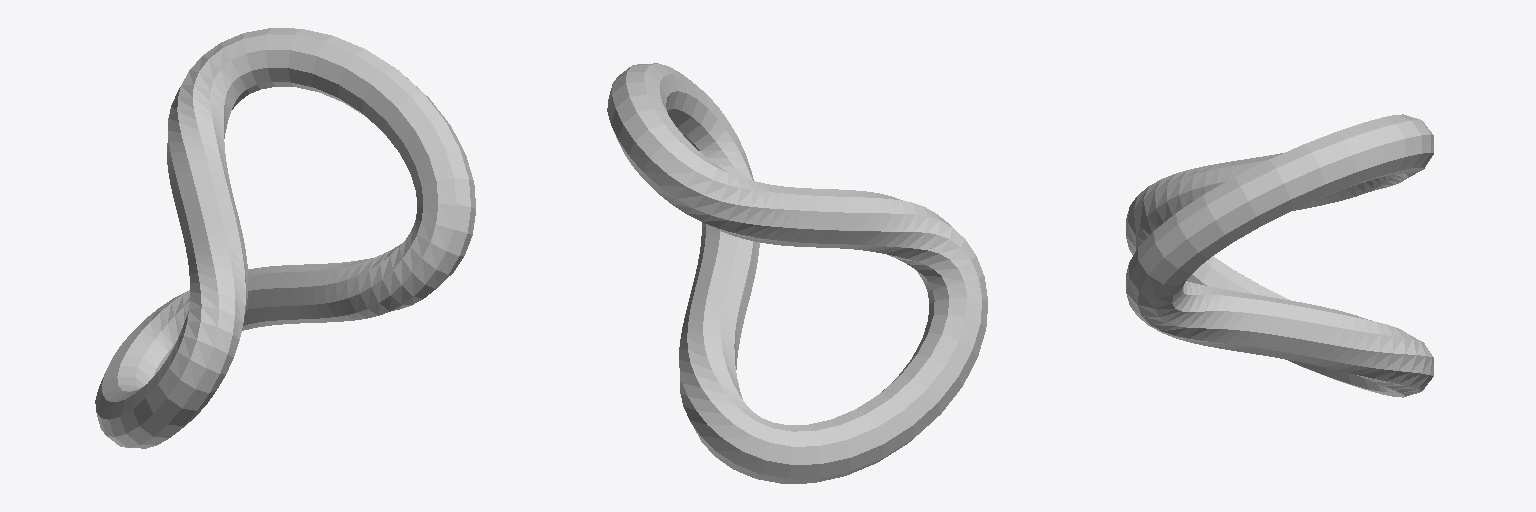
The model's file is loop.obj.
3 views of the same model, side by side, from view 1: azimuth 30°, elevation 25°; view 2: azimuth 150°, elevation 25°; view 3: azimuth 270°, elevation 25° (orthographic).
Size of the model in its own units: 154 by 154 by 126.